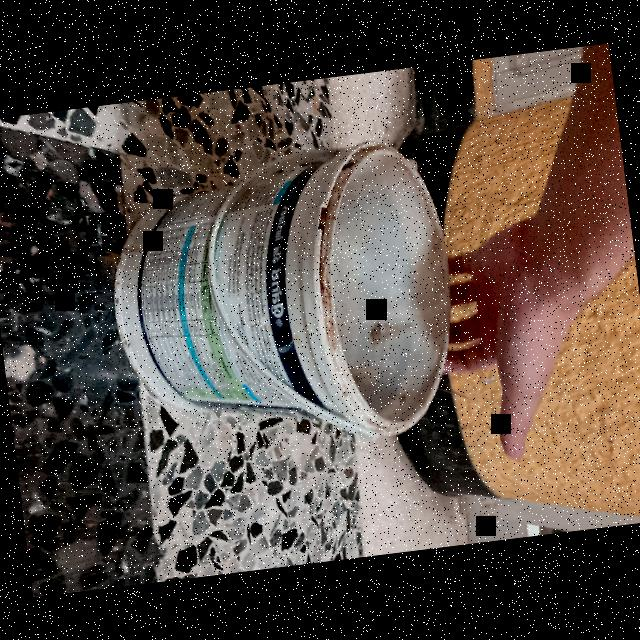paint_bucket: (95, 125, 473, 468)
plastic_bottle: (225, 362, 332, 570), (288, 242, 308, 362)
